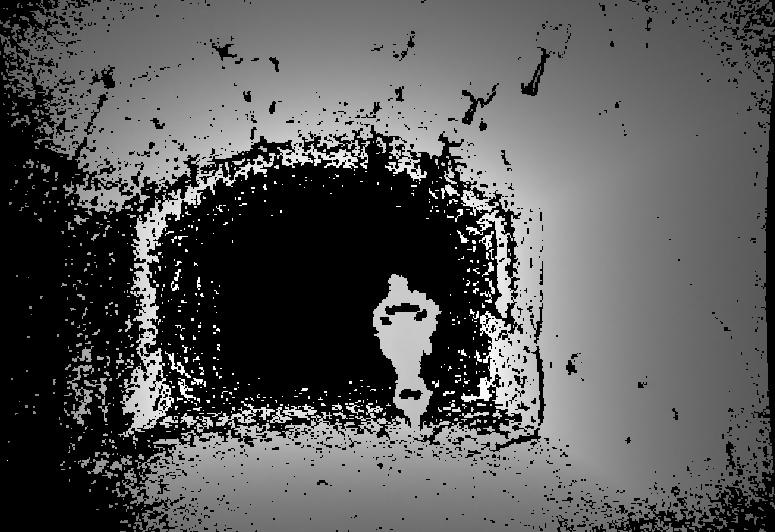person: (373, 272, 441, 431)
